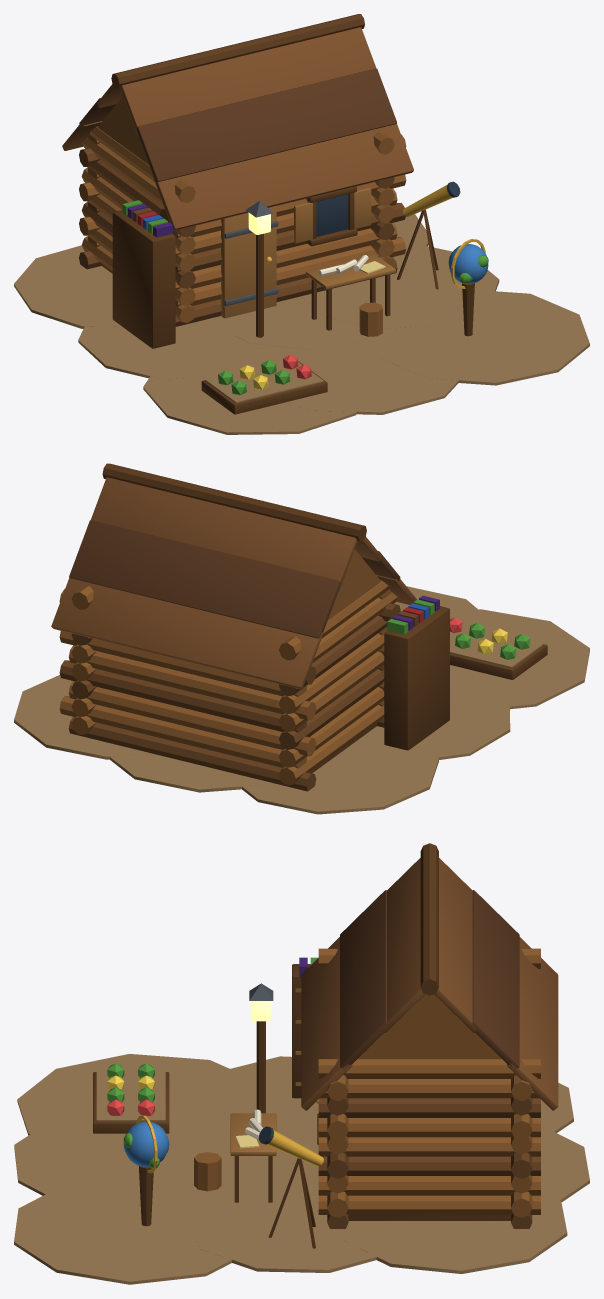
Rendered from akademia_poz05.glb.
3 views of the same model, one above another, from view 1: azimuth 30°, elevation 25°; view 2: azimuth 150°, elevation 25°; view 3: azimuth 270°, elevation 25° (orthographic). The views are drawn at different scales.
Visible parts, largest first — view 1: akademia_poz05; view 2: akademia_poz05; view 3: akademia_poz05.
Boxes of the visible parts, x1,y1,x2,y2 form: akademia_poz05: (14, 14, 589, 434); akademia_poz05: (14, 463, 589, 814); akademia_poz05: (14, 843, 589, 1284).
Bounding box in the file's own units: 7.05 × 3.74 × 7.52.
